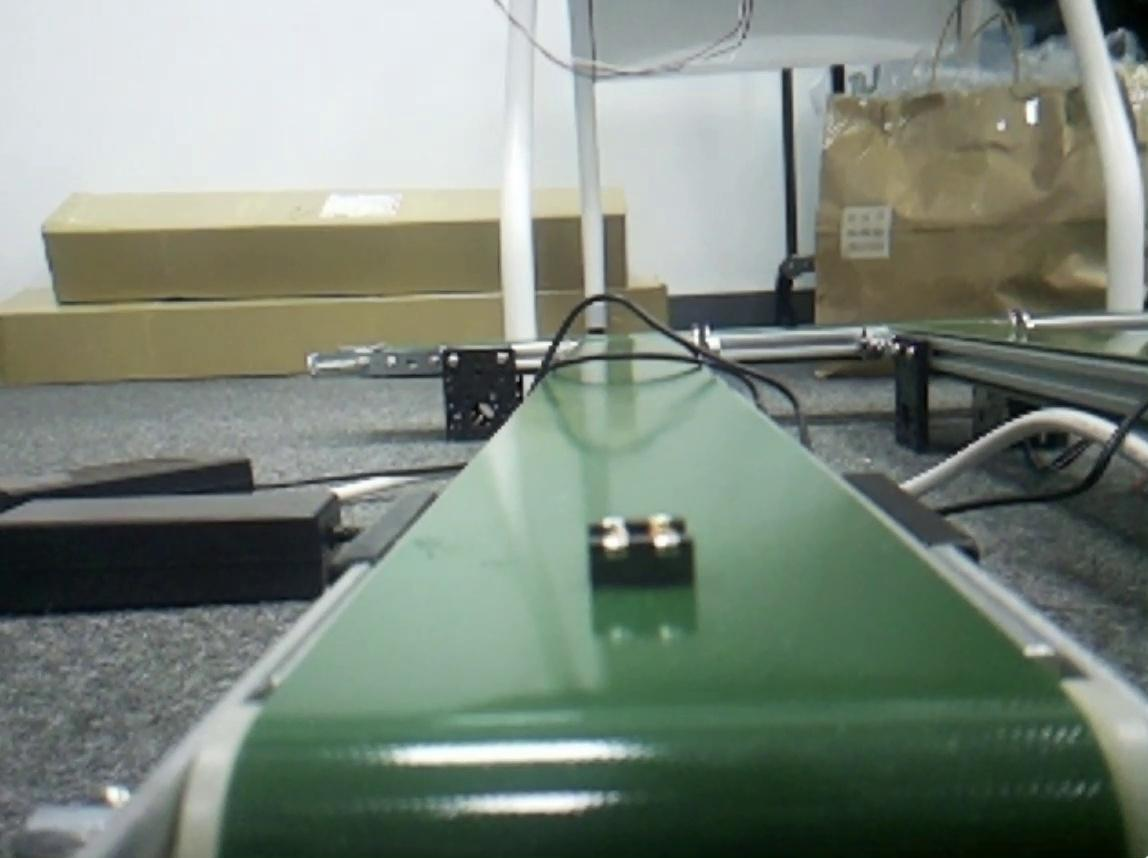inductor: (595, 520, 684, 578)
